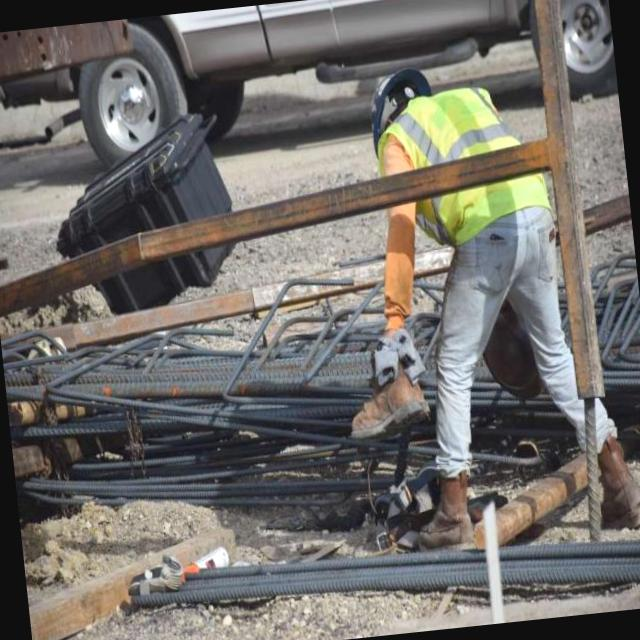vest: (367, 71, 568, 264)
